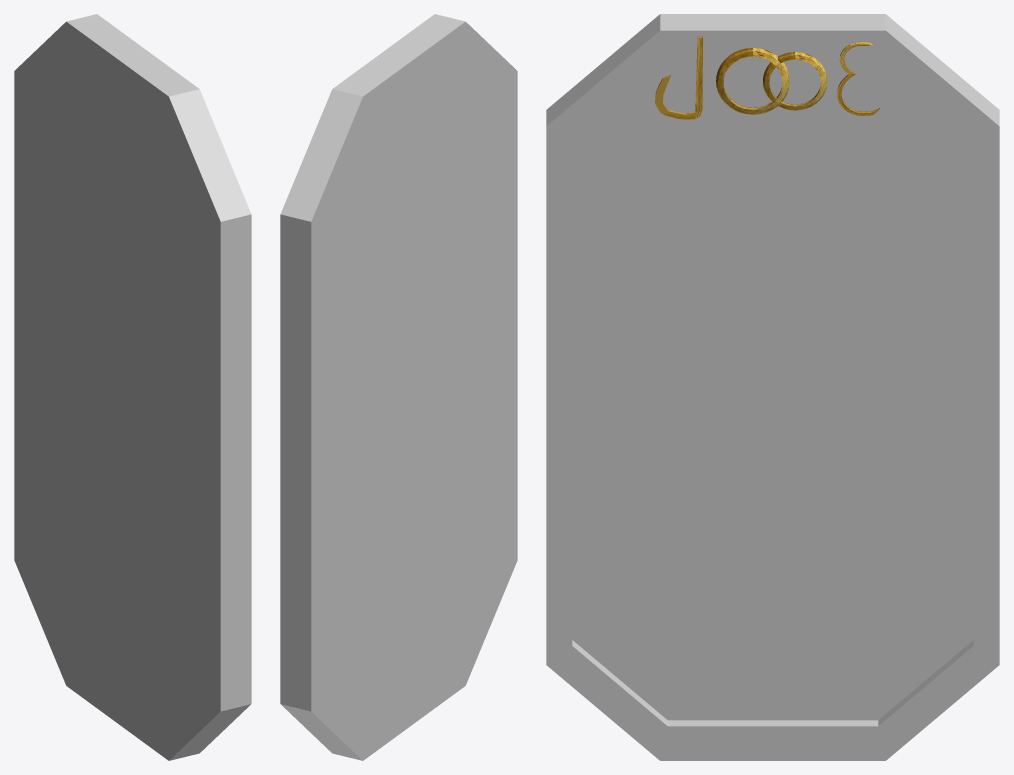
The model's file is mirror.glb.
3 views of the same model, side by side, from view 1: azimuth 30°, elevation 25°; view 2: azimuth 150°, elevation 25°; view 3: azimuth 270°, elevation 25° (orthographic). The views are drawn at different scales.
Visible parts, largest first — view 1: Frame; view 2: Frame; view 3: Mirror, Frame, Rings, James.
Part boxes in pixels (bbox=[...]): Frame: bbox=[14, 14, 251, 760]; Frame: bbox=[280, 14, 517, 760]; Mirror: bbox=[572, 126, 973, 720]; Frame: bbox=[546, 14, 999, 760]; Rings: bbox=[716, 47, 827, 114]; James: bbox=[655, 36, 702, 119].
Size of the model in its own units: 0.1349 by 2.43 by 1.37.
2 materials, 1 textured.
